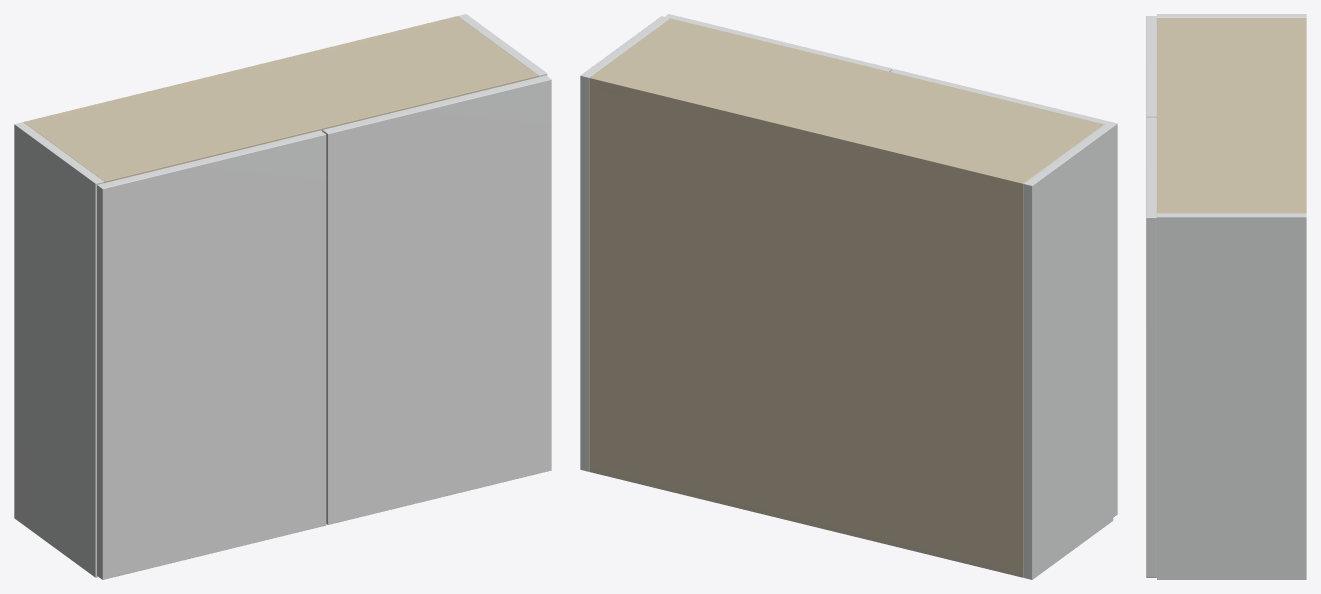
File: oppein-ply-pgw-w3630.glb
3 renders of one model, left to right at view 1: azimuth 30°, elevation 25°; view 2: azimuth 150°, elevation 25°; view 3: azimuth 270°, elevation 25°, orthographic. The views are drawn at different scales.
Parts seen in each view (by area): view 1: Door, Door.001, Cabinet top, Cabinet side, Cabinet back, Cabinet side.001; view 2: Cabinet back, Cabinet side, Cabinet top, Cabinet side.001, Cabinet bottom, Door, Door.001; view 3: Cabinet side.001, Cabinet top, Door.001, Cabinet back, Door, Cabinet side.
Part boxes in pixels (box(x1,y1,x2,y2)): Door: box(97, 130, 326, 579); Door.001: box(322, 75, 551, 524); Cabinet top: box(23, 18, 538, 182); Cabinet side: box(14, 122, 104, 577); Cabinet back: box(24, 16, 459, 124); Cabinet side.001: box(458, 14, 547, 76); Cabinet back: box(589, 76, 1025, 577); Cabinet side: box(1023, 124, 1113, 579); Cabinet top: box(589, 18, 1104, 191); Cabinet side.001: box(580, 16, 669, 471); Cabinet bottom: box(589, 463, 1023, 577); Door: box(890, 69, 1117, 517); Door.001: box(665, 14, 892, 71); Cabinet side.001: box(1157, 213, 1306, 579); Cabinet top: box(1157, 18, 1306, 213); Door.001: box(1146, 117, 1156, 577); Cabinet back: box(1300, 18, 1306, 213); Door: box(1146, 16, 1156, 117); Cabinet side: box(1157, 14, 1306, 17).
Size of the model in its own units: 0.9144 by 0.762 by 0.3048.
